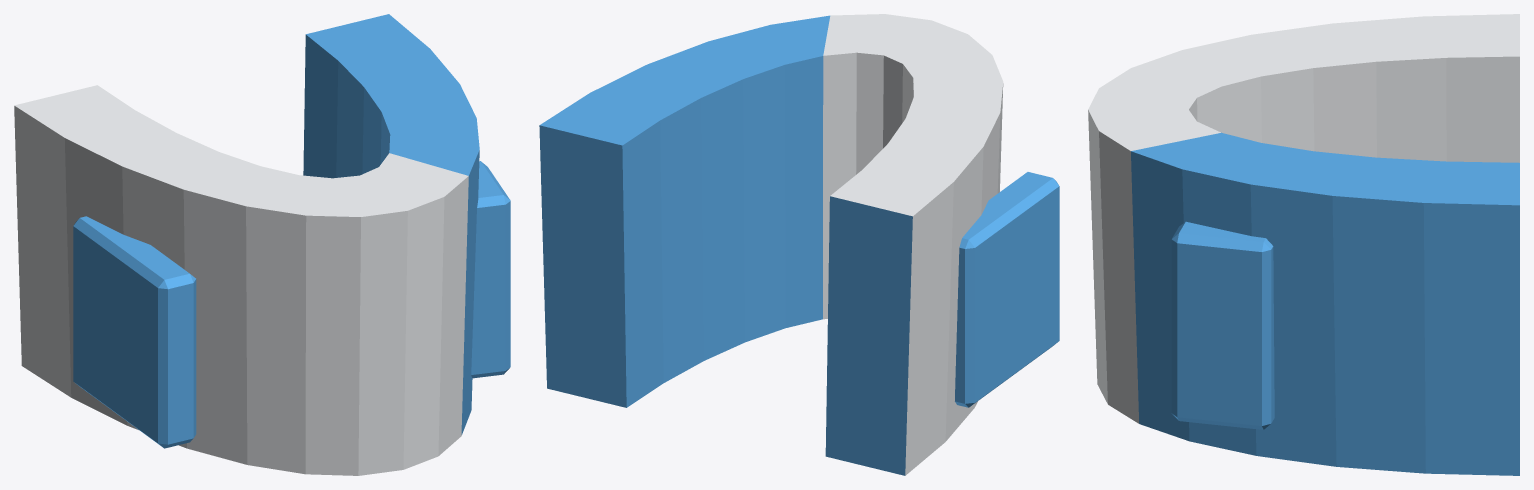
Rendered from right_shoulder__base.glb.
The picture shows the model from 3 angles, left to right: view 1: azimuth 30°, elevation 25°; view 2: azimuth 150°, elevation 25°; view 3: azimuth 270°, elevation 25°; orthographic projection. The views are drawn at different scales.
Visible parts, largest first — view 1: armor_right_shoulder__base_v001; view 2: armor_right_shoulder__base_v001; view 3: armor_right_shoulder__base_v001.
Boxes of the visible parts, <box> form: armor_right_shoulder__base_v001: <box>14,14,510,475</box>; armor_right_shoulder__base_v001: <box>539,14,1059,475</box>; armor_right_shoulder__base_v001: <box>1088,14,1519,475</box>.
Size of the model in its own units: 0.1772 by 0.118 by 0.1682.
